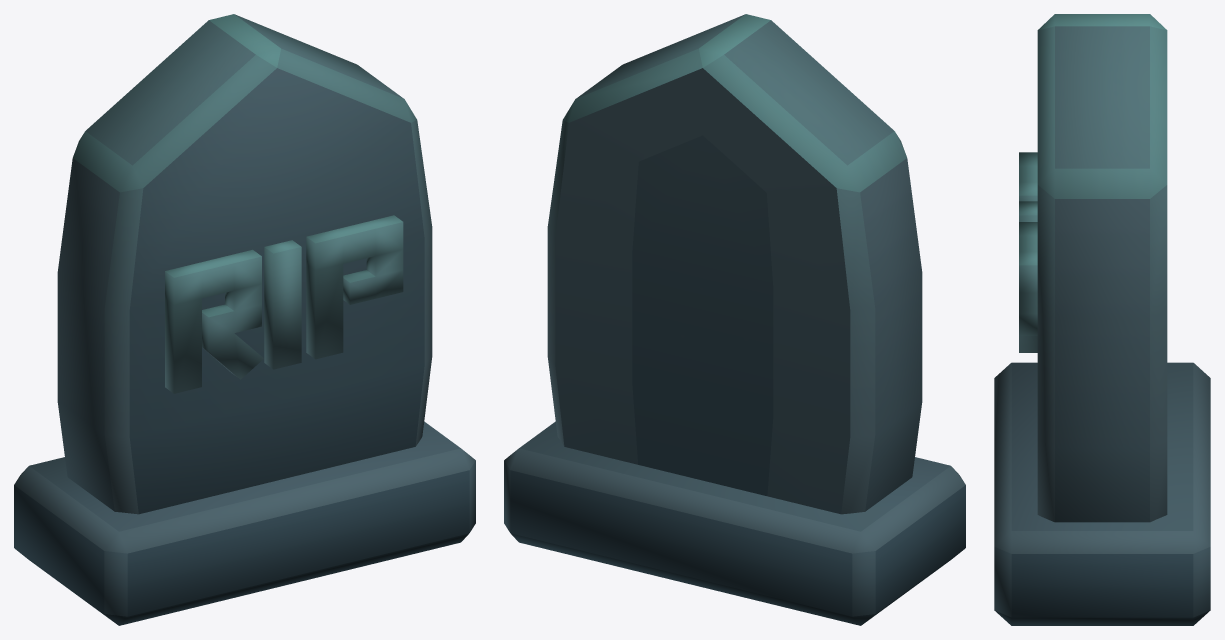
File: grave_stone_2.fbx
3 renders of one model, left to right at view 1: azimuth 30°, elevation 25°; view 2: azimuth 150°, elevation 25°; view 3: azimuth 270°, elevation 25°, orthographic.
Parts seen in each view (by area): view 1: grave_stone_2; view 2: grave_stone_2; view 3: grave_stone_2.
Part boxes in pixels (bbox=[...]): grave_stone_2: bbox=[14, 14, 475, 625]; grave_stone_2: bbox=[504, 14, 965, 625]; grave_stone_2: bbox=[994, 14, 1210, 625].
Bounding box in the file's own units: 90 × 120 × 45.
